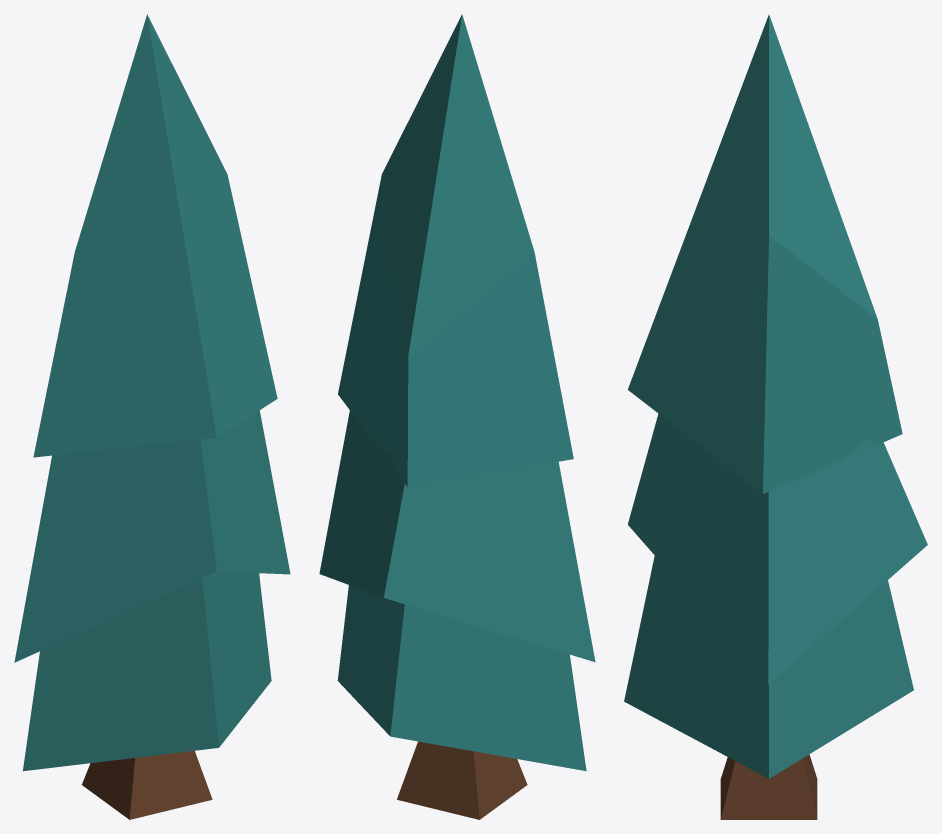
File: Tree_53_Blue.fbx
The picture shows the model from 3 angles, left to right: view 1: azimuth 30°, elevation 25°; view 2: azimuth 150°, elevation 25°; view 3: azimuth 270°, elevation 25°; orthographic projection.
Visible parts, largest first — view 1: Tree_53_Blue_Part_1, Tree_53_Blue_Part_2; view 2: Tree_53_Blue_Part_1, Tree_53_Blue_Part_2; view 3: Tree_53_Blue_Part_1, Tree_53_Blue_Part_2.
Boxes of the visible parts, box(x1,y1,x2,y2) form: Tree_53_Blue_Part_1: box(14, 14, 290, 771); Tree_53_Blue_Part_2: box(82, 751, 212, 819); Tree_53_Blue_Part_1: box(319, 14, 595, 771); Tree_53_Blue_Part_2: box(397, 741, 527, 819); Tree_53_Blue_Part_1: box(624, 14, 927, 778); Tree_53_Blue_Part_2: box(720, 754, 817, 819).
Size of the model in its own units: 222 by 598 by 210.
